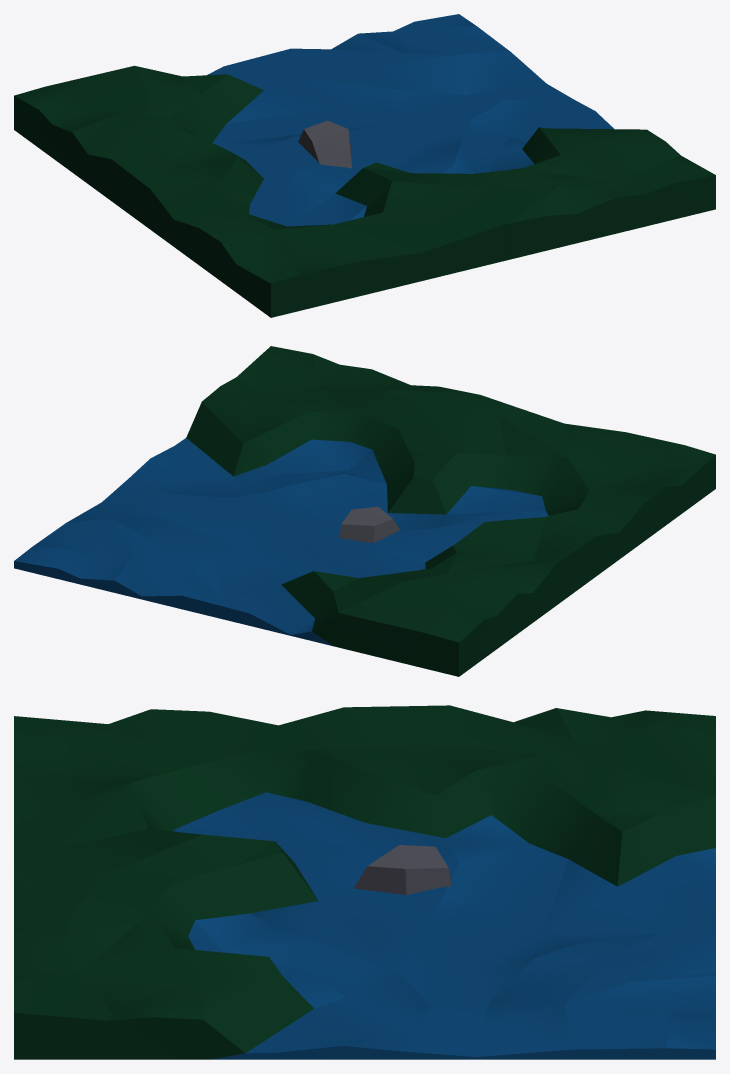
Rendered from Water_Corner_Internal_LB.fbx.
The picture shows the model from 3 angles, top to bottom: view 1: azimuth 30°, elevation 25°; view 2: azimuth 150°, elevation 25°; view 3: azimuth 270°, elevation 25°; orthographic projection. The views are drawn at different scales.
Visible parts, largest first — view 1: Water_Corner_Internal_LB; view 2: Water_Corner_Internal_LB; view 3: Water_Corner_Internal_LB.
Part boxes in pixels (left/top/right/bottom): Water_Corner_Internal_LB: left=14, top=14, right=715, bottom=317; Water_Corner_Internal_LB: left=14, top=346, right=715, bottom=676; Water_Corner_Internal_LB: left=14, top=705, right=715, bottom=1059.
Size of the model in its own units: 147 by 14.11 by 147.
